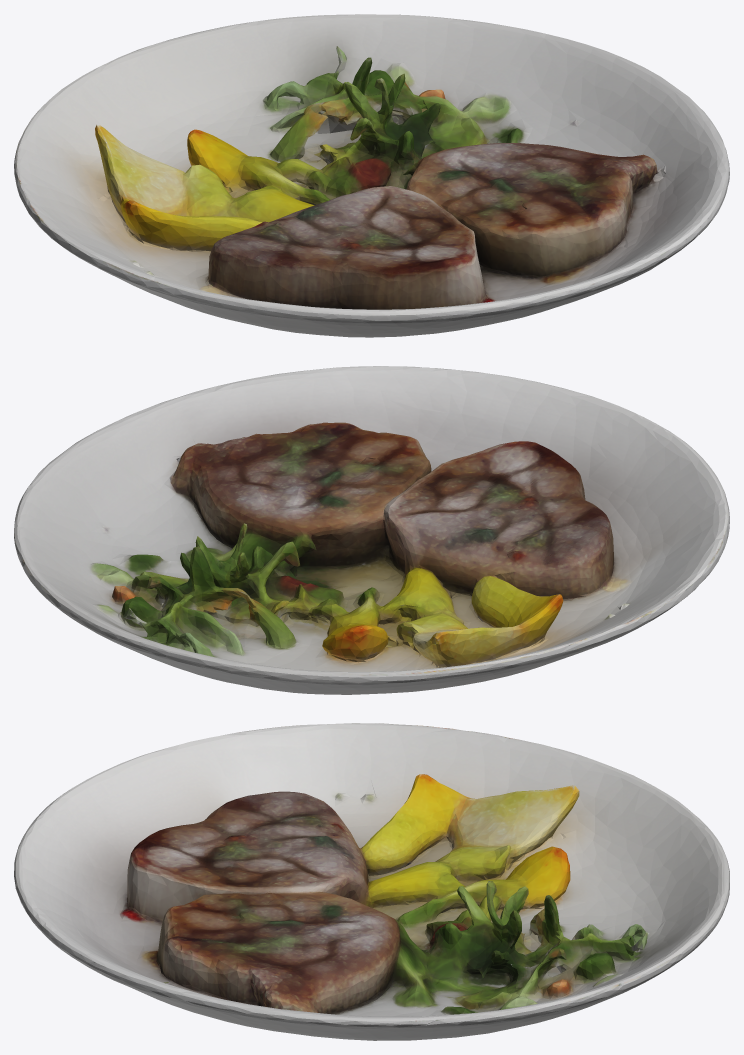
The model's file is product.glb.
3 renders of one model, top to bottom at view 1: azimuth 30°, elevation 25°; view 2: azimuth 150°, elevation 25°; view 3: azimuth 270°, elevation 25°, orthographic. The views are drawn at different scales.
Parts seen in each view (by area): view 1: world; view 2: world; view 3: world.
Part boxes in pixels (bbox=[...]): world: bbox=[14, 14, 729, 337]; world: bbox=[14, 366, 729, 694]; world: bbox=[14, 723, 729, 1040].
Size of the model in its own units: 0.9774 by 0.1471 by 0.9987.
1 material, 1 textured.
